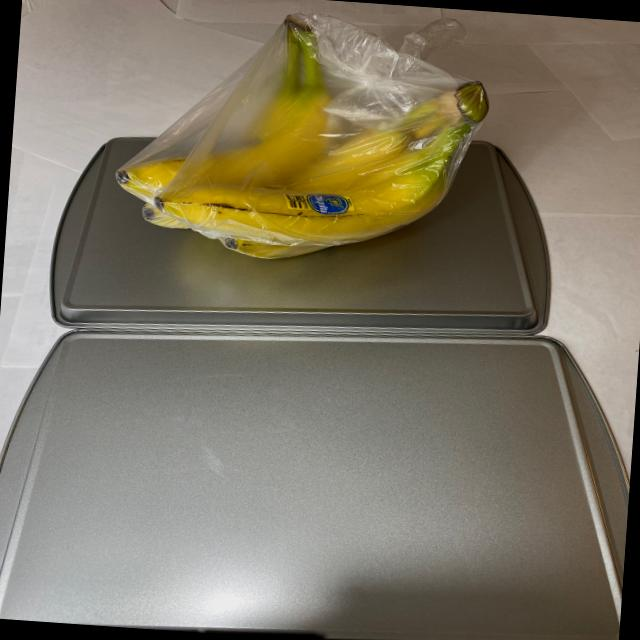banana: (109, 3, 522, 280)
